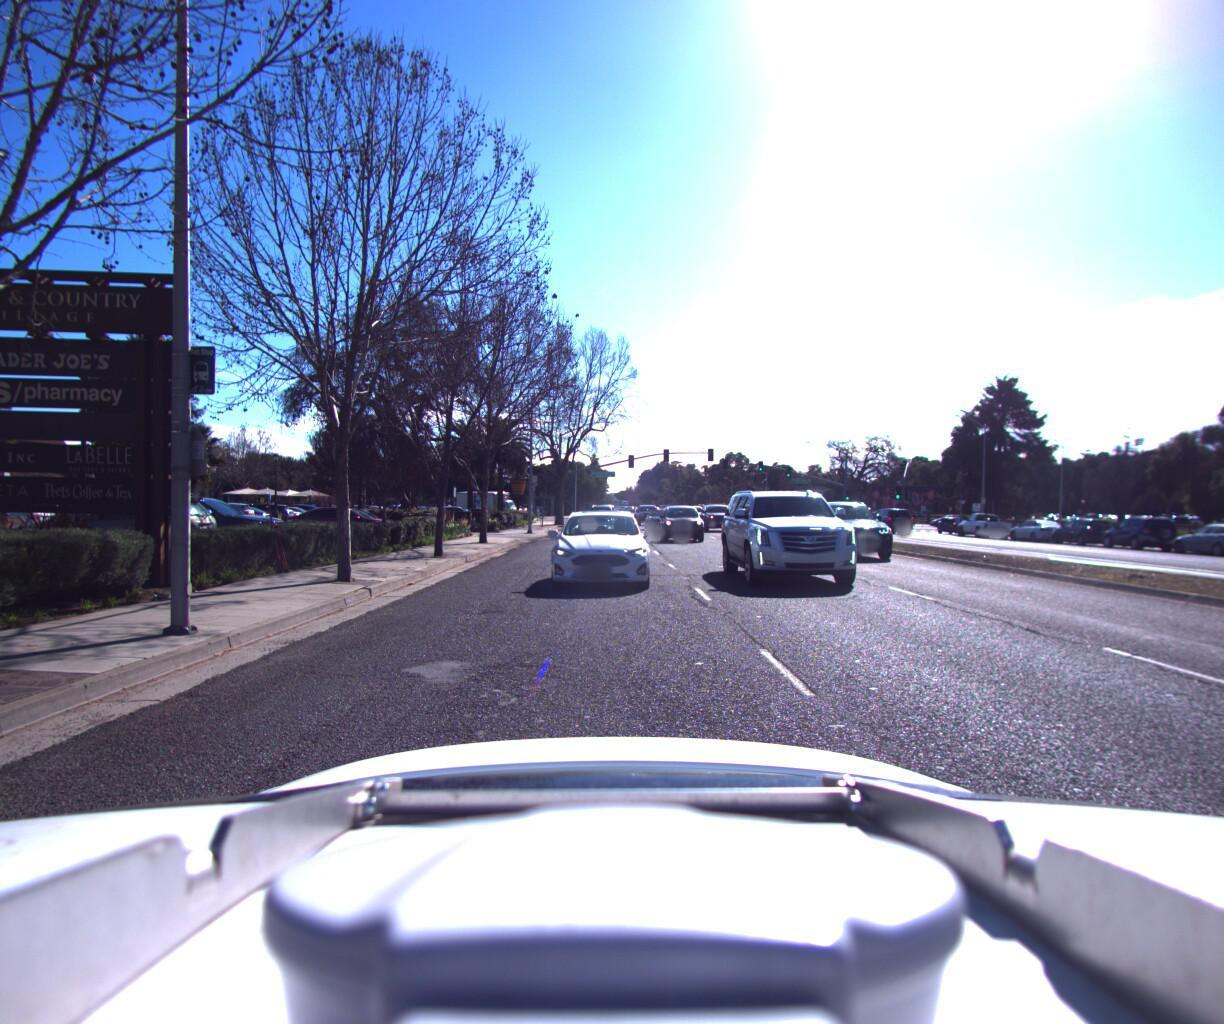car: (726, 480, 888, 602), (2, 488, 233, 565), (84, 489, 299, 558), (553, 508, 660, 597), (805, 499, 917, 561), (282, 502, 397, 545), (1095, 513, 1183, 551), (1042, 513, 1121, 547), (1163, 518, 1224, 557), (659, 505, 707, 543), (1004, 515, 1069, 542), (952, 508, 1015, 536), (694, 501, 738, 535)
